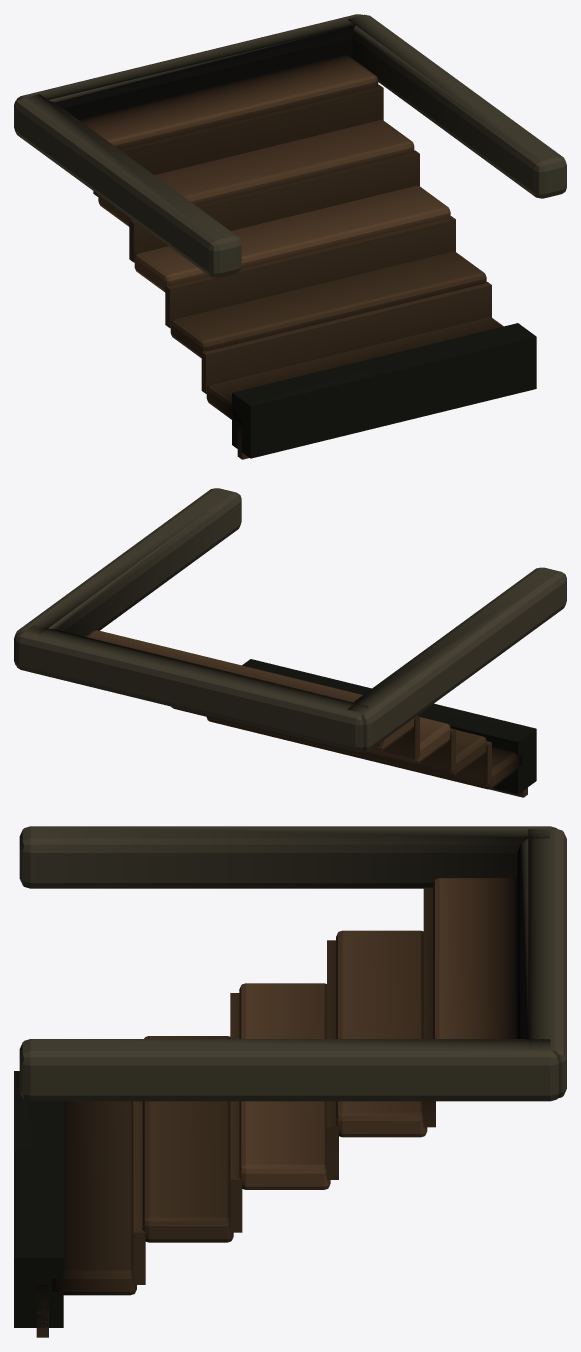
Rendered from stairs_region2.glb.
3 renders of one model, top to bottom at view 1: azimuth 30°, elevation 25°; view 2: azimuth 150°, elevation 25°; view 3: azimuth 270°, elevation 25°, orthographic. The views are drawn at different scales.
Visible parts, largest first — view 1: stairs_region2; view 2: stairs_region2; view 3: stairs_region2.
Part boxes in pixels (x1,y1,x2,y2): stairs_region2: (14, 14, 566, 459); stairs_region2: (14, 488, 566, 797); stairs_region2: (14, 826, 566, 1337).
Size of the model in its own units: 1 by 0.6095 by 1.
